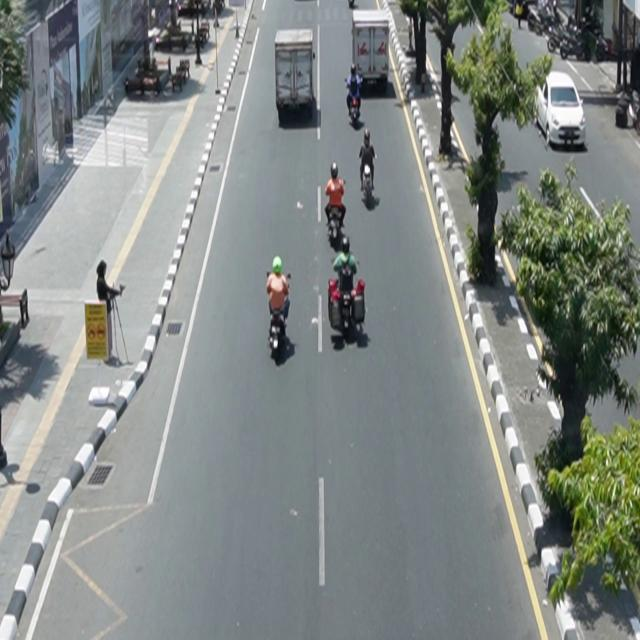car: (534, 71, 587, 150)
truck: (275, 28, 316, 120), (352, 10, 391, 93)
